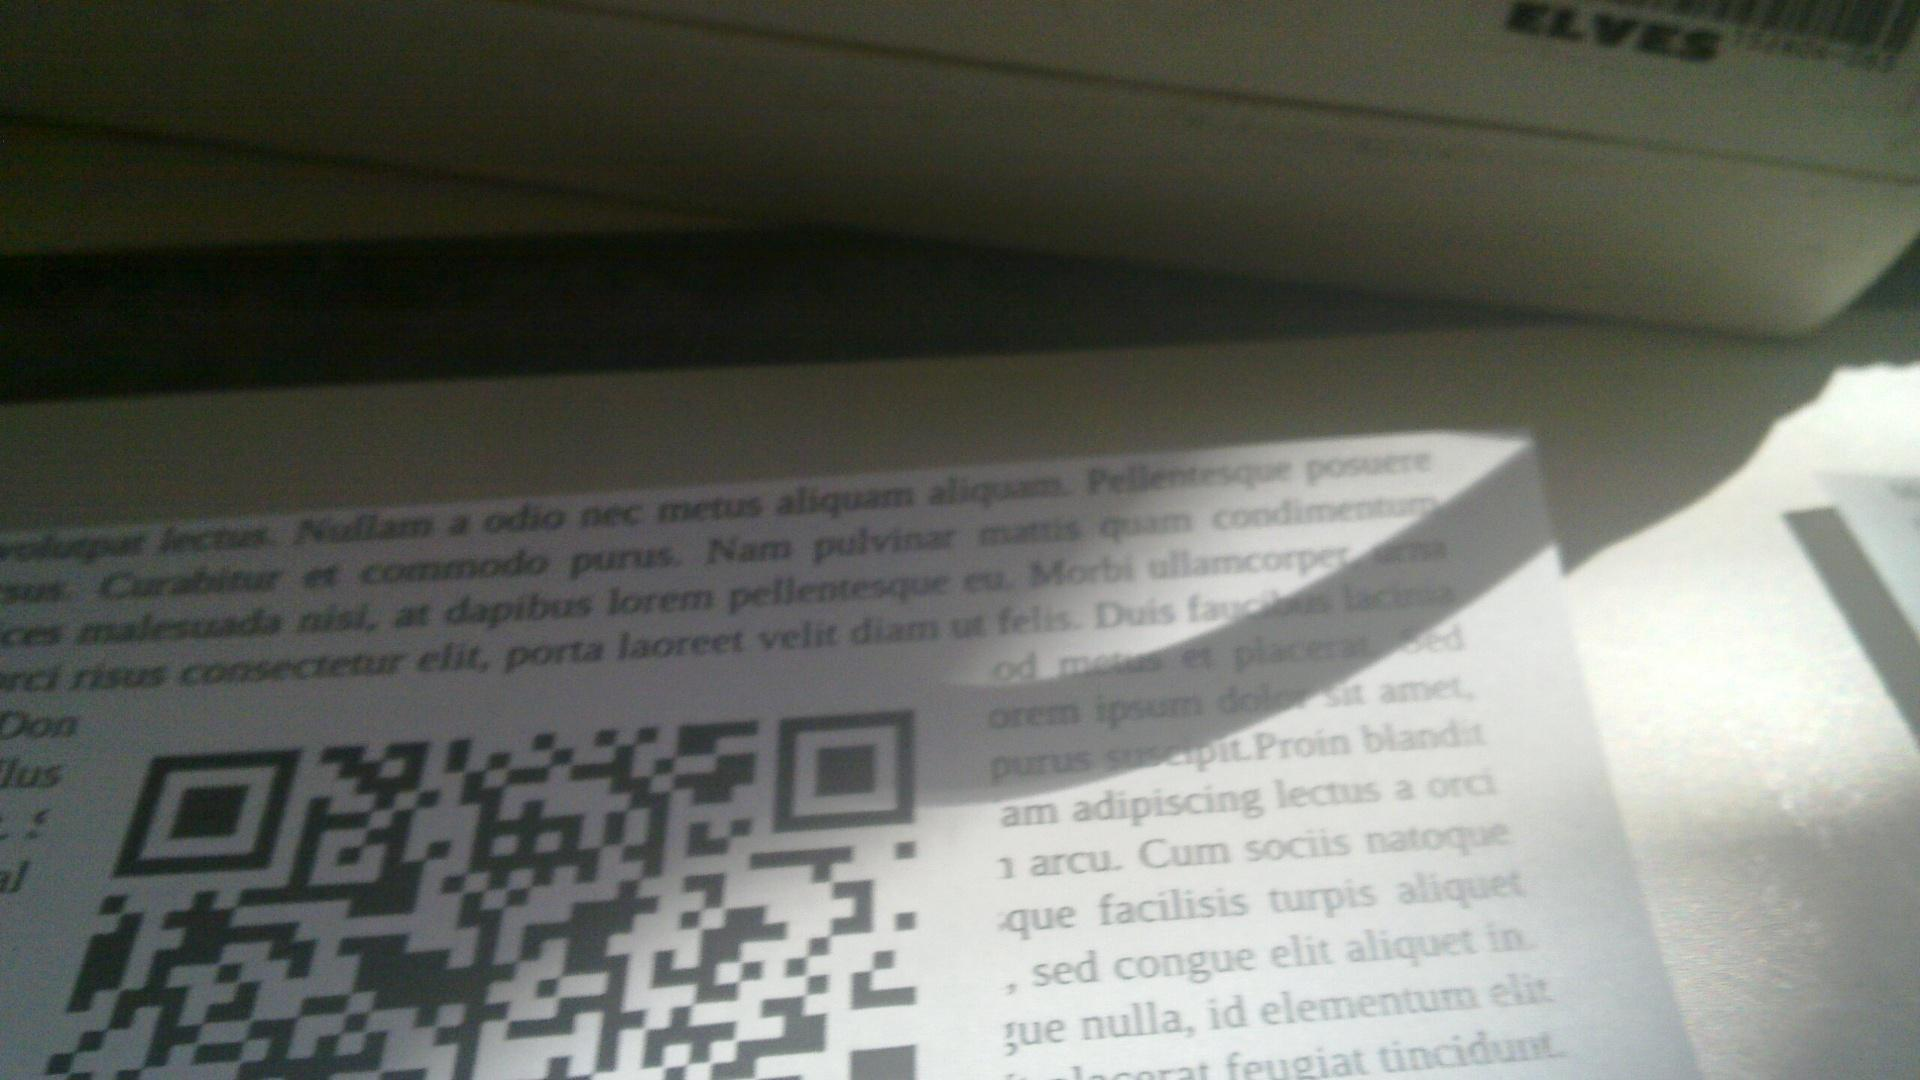Finder pattern: (111, 745, 298, 873), (769, 705, 923, 829)
